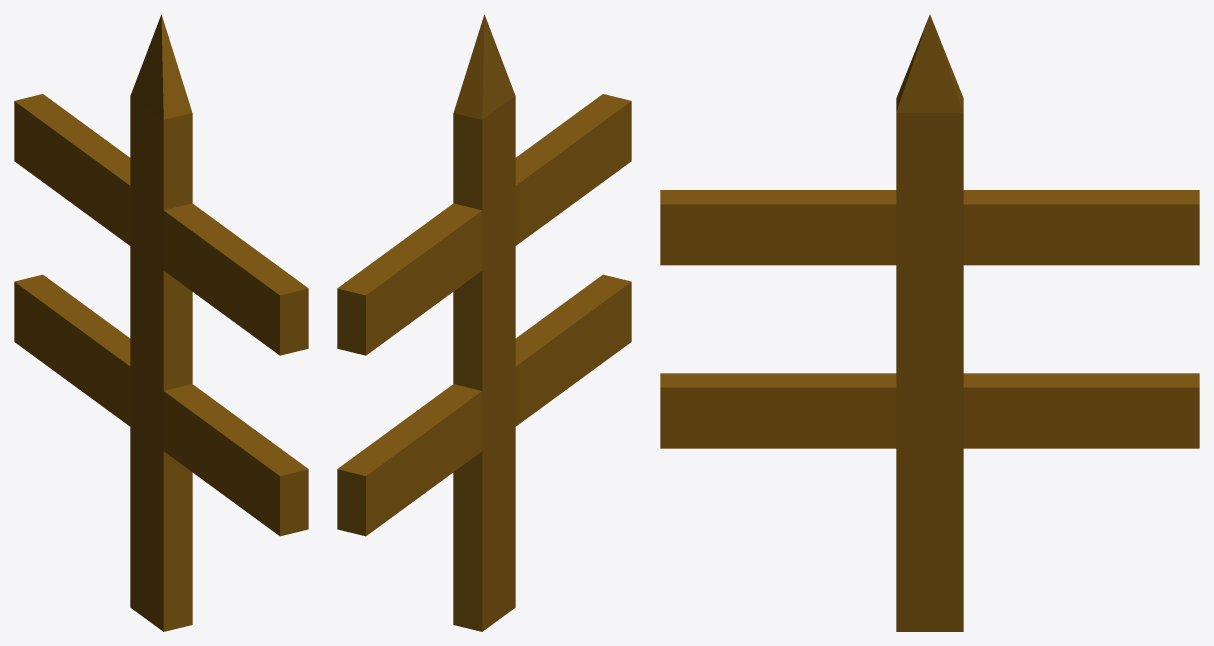
The picture shows the model from 3 angles, left to right: view 1: azimuth 30°, elevation 25°; view 2: azimuth 150°, elevation 25°; view 3: azimuth 270°, elevation 25°; orthographic projection.
Bounding box in the file's own units: 8 × 160 × 128.
1 material, 1 textured.
